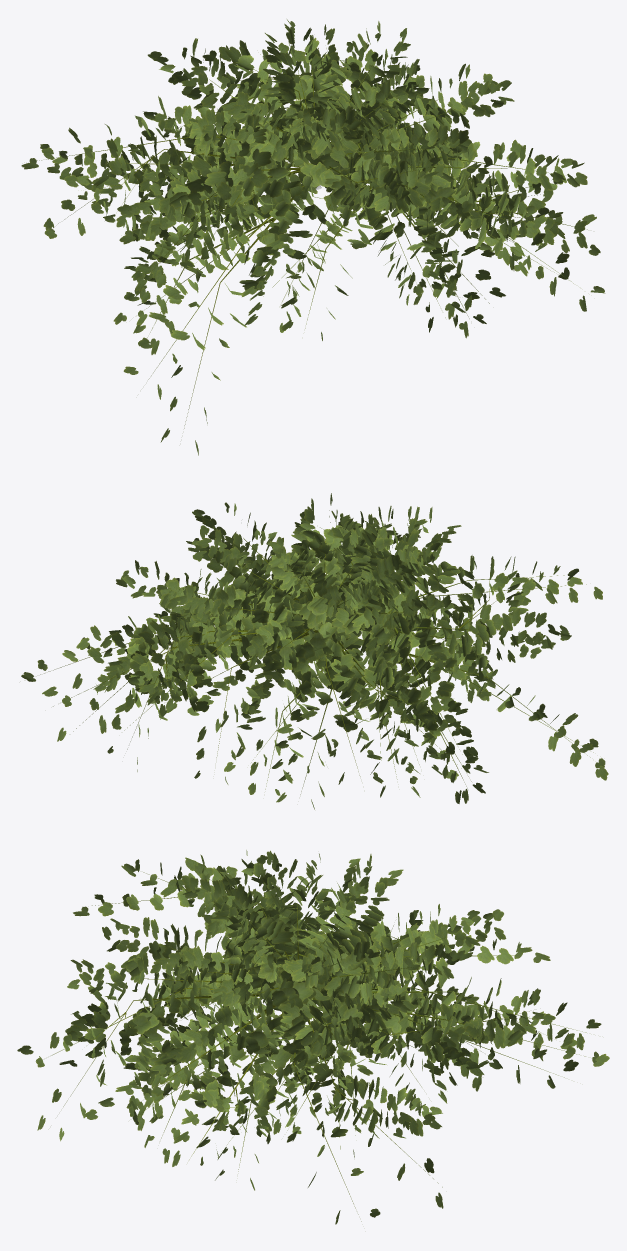
Rendered from LowestBush.fbx.
The picture shows the model from 3 angles, top to bottom: view 1: azimuth 30°, elevation 25°; view 2: azimuth 150°, elevation 25°; view 3: azimuth 270°, elevation 25°; orthographic projection. The views are drawn at different scales.
Visible parts, largest first — view 1: leaf redcurrant_2, plant05_1; view 2: leaf redcurrant_2, plant05_1; view 3: leaf redcurrant_2, plant05_1.
Part boxes in pixels (bbox=[...]): leaf redcurrant_2: bbox=[21, 19, 605, 455]; plant05_1: bbox=[37, 48, 587, 428]; leaf redcurrant_2: bbox=[21, 493, 608, 809]; plant05_1: bbox=[40, 527, 593, 794]; leaf redcurrant_2: bbox=[17, 850, 609, 1224]; plant05_1: bbox=[51, 870, 586, 1221].
Size of the model in its own units: 398 by 200 by 392.
Materials: 2 (2 with a texture image).
